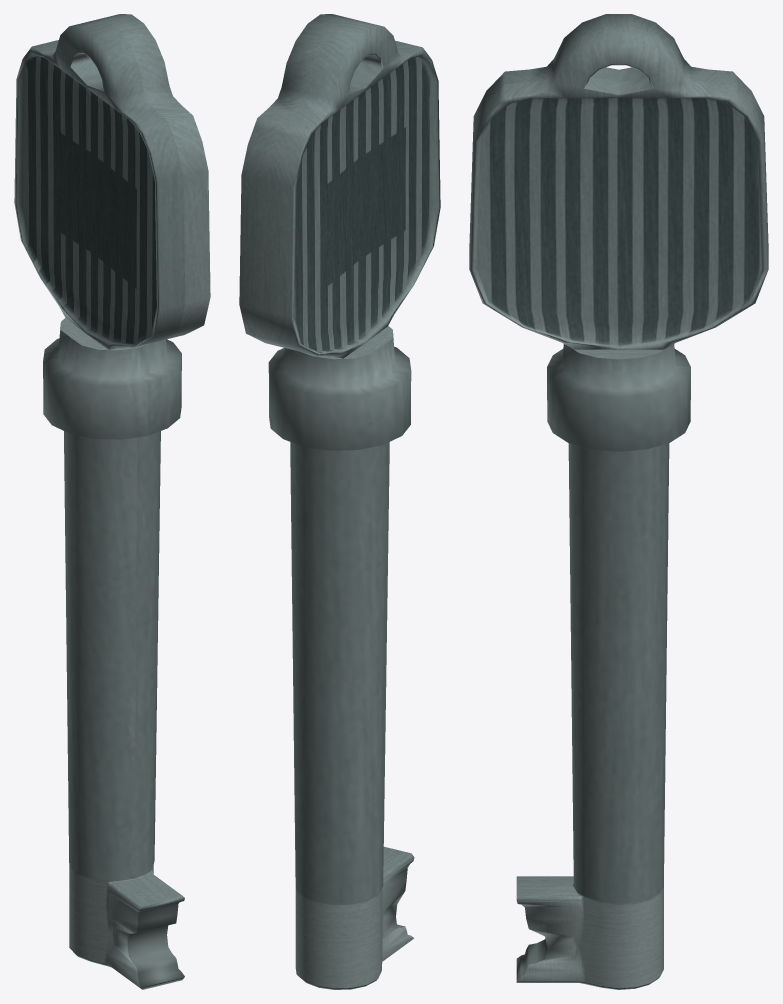
Rendered from key.fbx.
The picture shows the model from 3 angles, left to right: view 1: azimuth 30°, elevation 25°; view 2: azimuth 150°, elevation 25°; view 3: azimuth 270°, elevation 25°; orthographic projection. The views are drawn at different scales.
Visible parts, largest first — view 1: key; view 2: key; view 3: key.
Boxes of the visible parts, x1,y1,x2,y2 form: key: (14, 14, 210, 989); key: (239, 14, 440, 989); key: (469, 14, 768, 989).
Size of the model in its own units: 2.37 by 17.19 by 4.92.
Materials: 1 (1 with a texture image).
